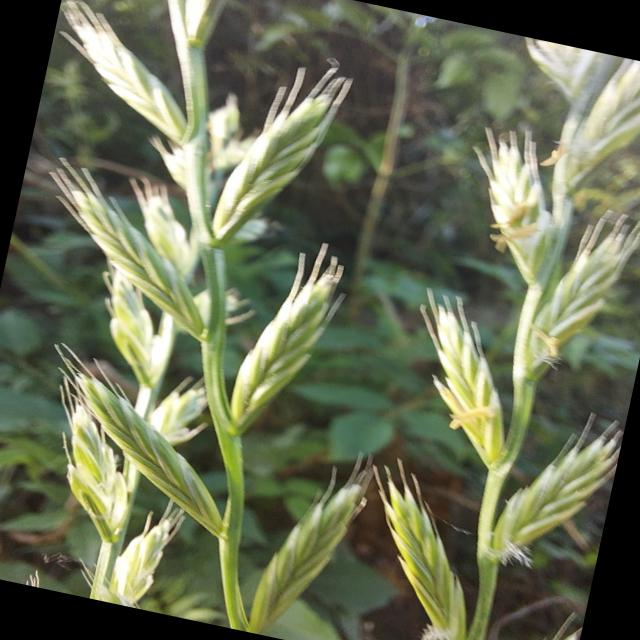Lolium: (0, 0, 415, 639), (297, 21, 640, 640)
